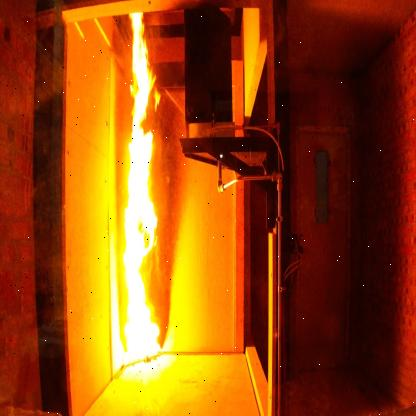fire: (114, 21, 166, 368)
